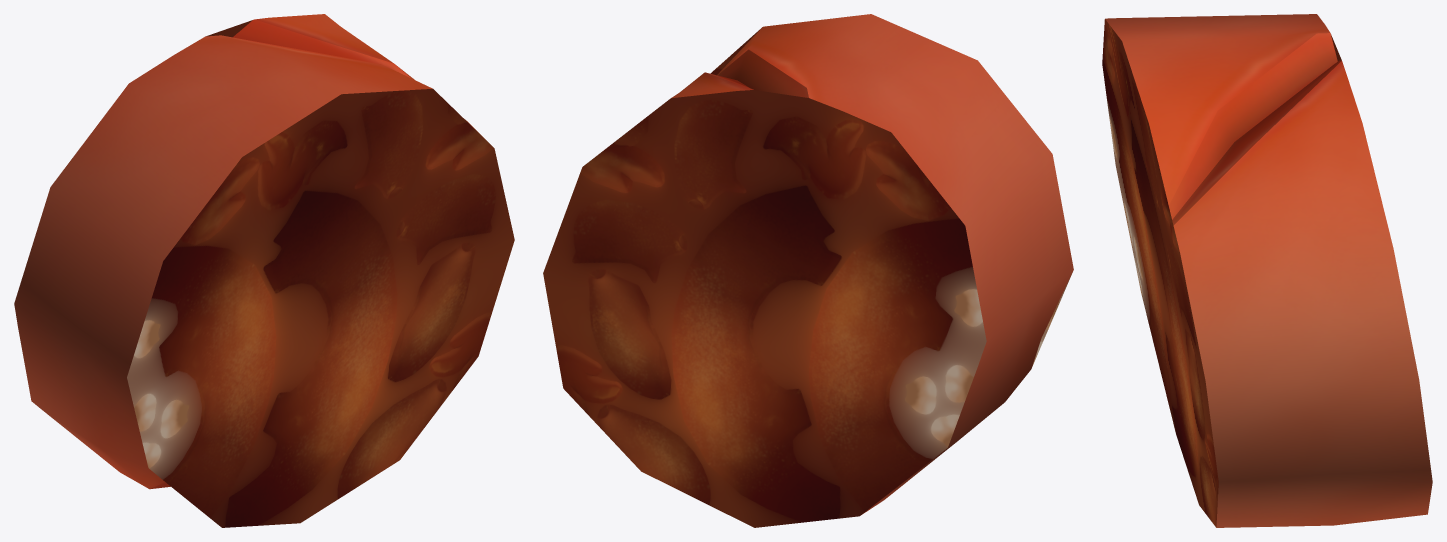
File: Sausage06.fbx
3 views of the same model, side by side, from view 1: azimuth 30°, elevation 25°; view 2: azimuth 150°, elevation 25°; view 3: azimuth 270°, elevation 25° (orthographic). The views are drawn at different scales.
Parts seen in each view (by area): view 1: Sausage06; view 2: Sausage06; view 3: Sausage06.
Boxes of the visible parts, x1,y1,x2,y2 form: Sausage06: (14,14,514,527); Sausage06: (543,14,1073,527); Sausage06: (1102,14,1432,527).
Bounding box in the file's own units: 0.1214 × 0.12 × 0.0772.
